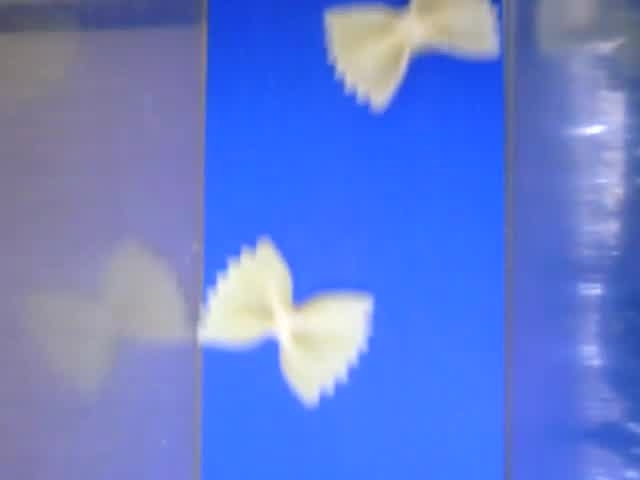farfalle: (198, 234, 377, 410), (322, 1, 500, 115)
